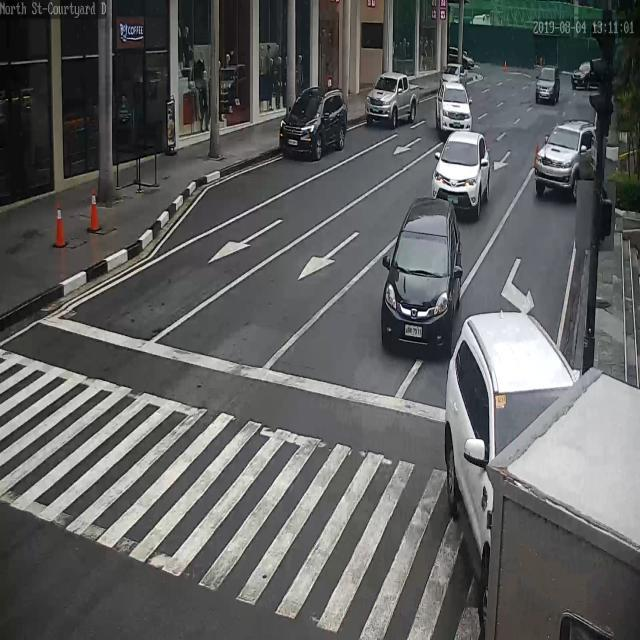car: (446, 310, 580, 640), (381, 195, 460, 356), (279, 86, 350, 161), (432, 129, 490, 215), (535, 121, 596, 197), (365, 74, 420, 128), (438, 79, 470, 132), (537, 67, 559, 104), (442, 61, 469, 89), (572, 61, 595, 91)
truck: (489, 366, 639, 640)
